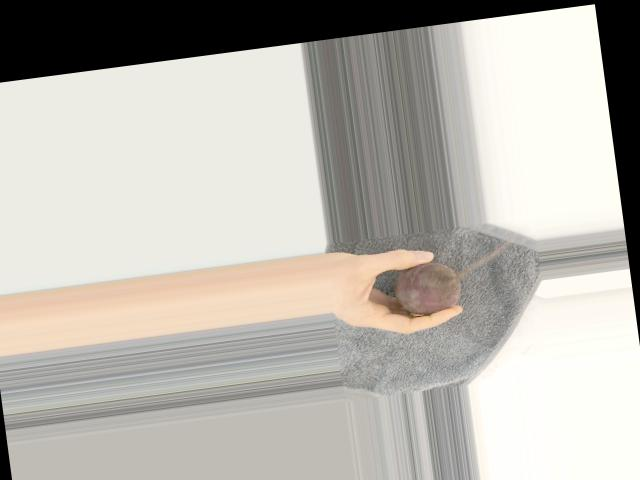beet: (391, 258, 463, 318)
